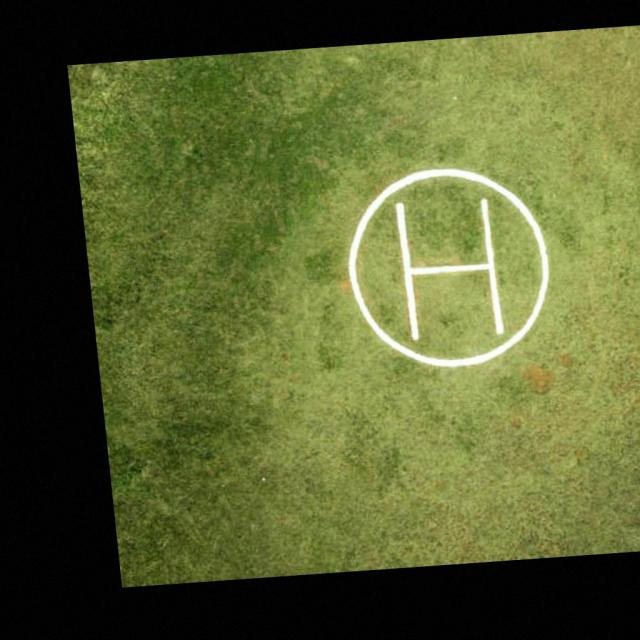helipad: (344, 162, 551, 370)
